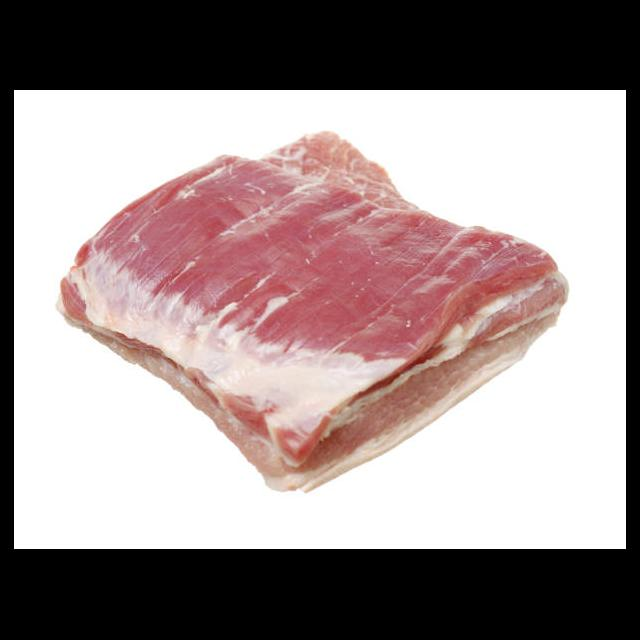pork: (54, 127, 574, 498)
